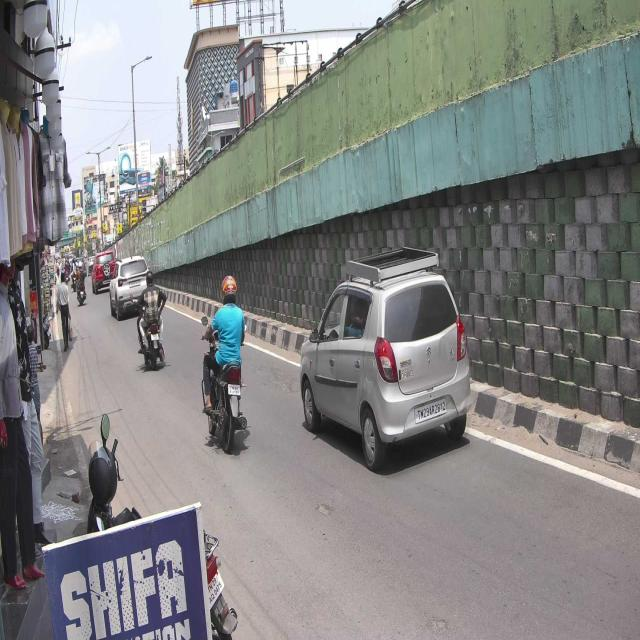single_rider: (200, 274, 250, 454)
